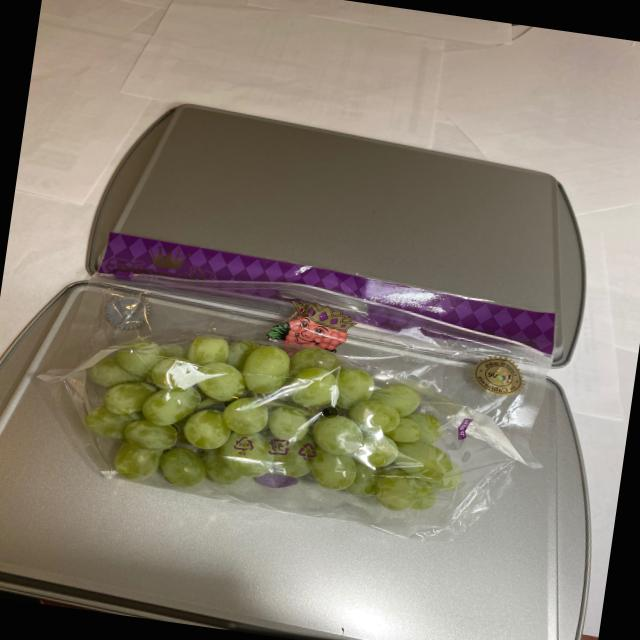grapes: (62, 322, 506, 530)
